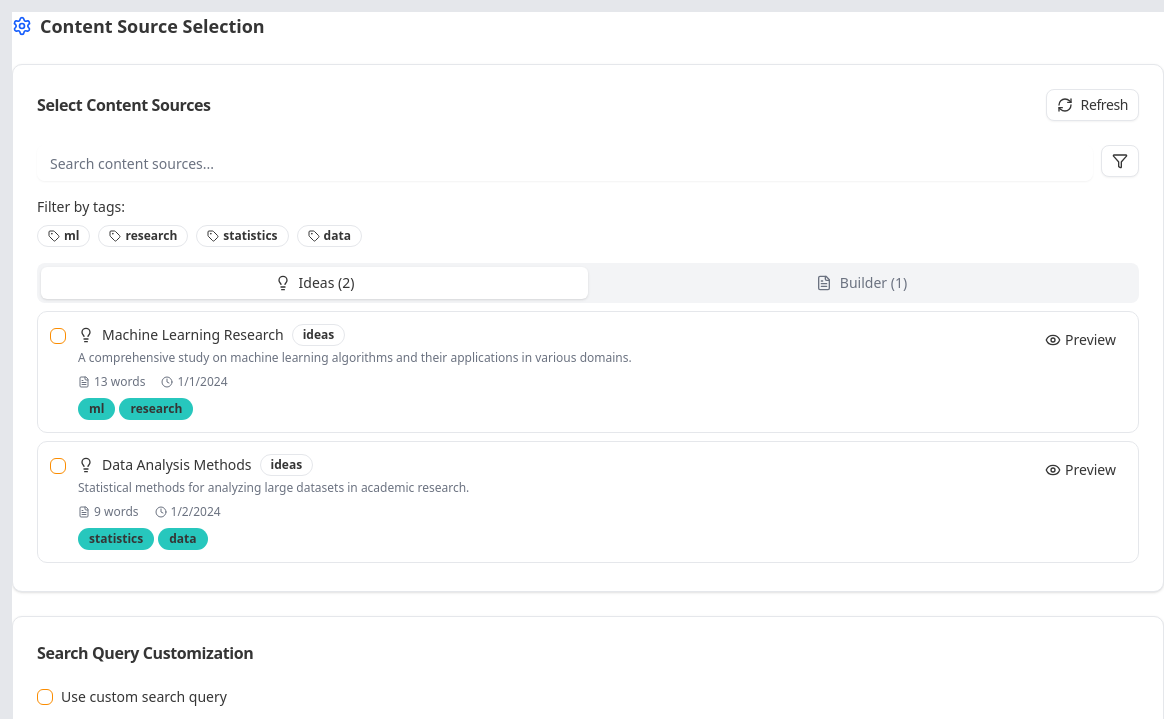
Test: ContentSourceSelector › filters content sources by search term
Expected: the heading "Machine Learning Research" is shown, [102,325,284,345]
Expected: the heading "Data Analysis Methods" is shown, [102,455,252,475]
Filter by search term
Type "machine learning" into the field with placeholder "Search content sources..." at (565, 163), box [37,145,1093,181]
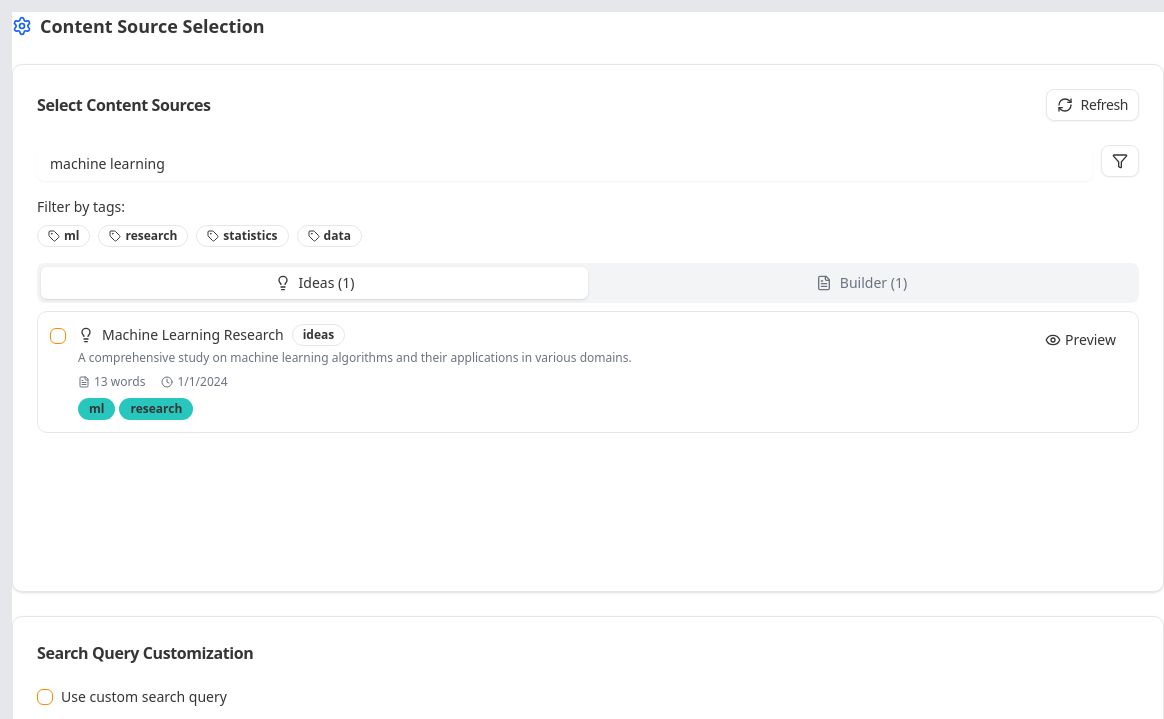
Expected: the heading "Machine Learning Research" is shown, [102,325,284,345]
Now the heading "Data Analysis Methods" is gone
